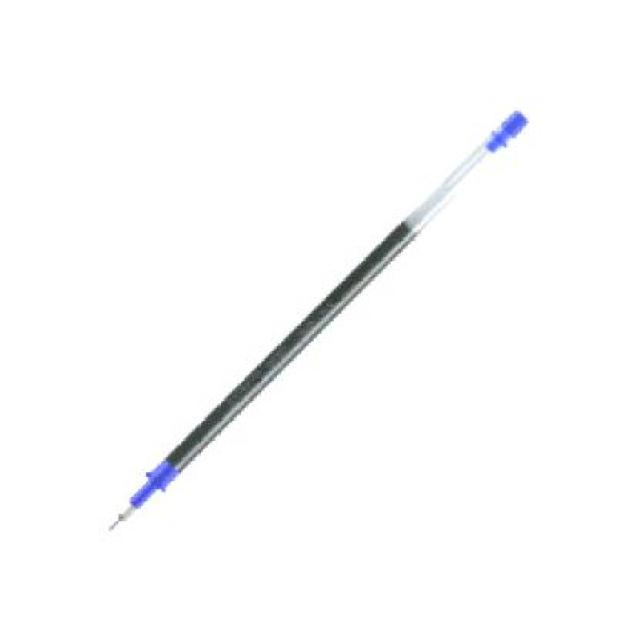pen: (106, 111, 533, 533)
